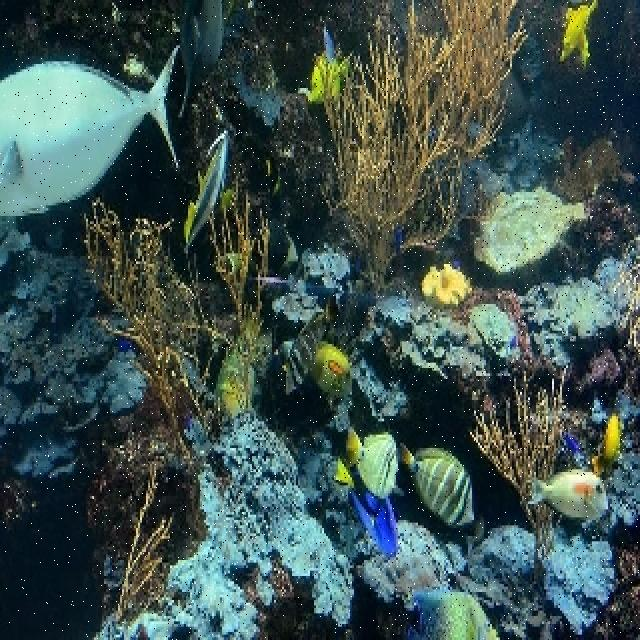fish: (0, 46, 181, 215), (330, 461, 397, 558), (400, 444, 478, 527), (173, 0, 225, 118), (285, 292, 343, 394), (186, 129, 229, 258), (527, 468, 610, 522), (404, 590, 498, 637), (215, 331, 264, 421), (344, 427, 405, 497), (299, 25, 354, 102), (561, 1, 600, 68), (311, 341, 356, 394), (603, 413, 624, 457), (215, 251, 248, 275)
reefs: (320, 0, 533, 300), (85, 195, 197, 429), (469, 364, 573, 553), (115, 460, 174, 620), (475, 188, 586, 273), (222, 213, 270, 321), (213, 190, 254, 257), (419, 262, 474, 309)
